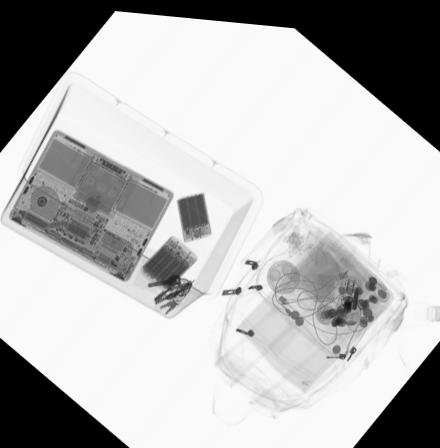Powerbank: (138, 227, 200, 289), (175, 188, 212, 239)
